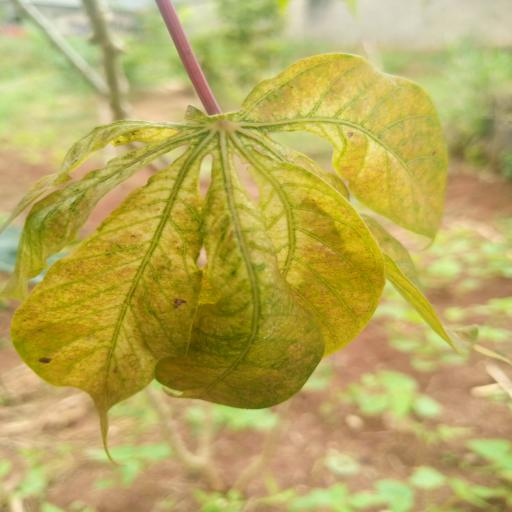Cassava_Mosaic: (0, 49, 467, 452)
